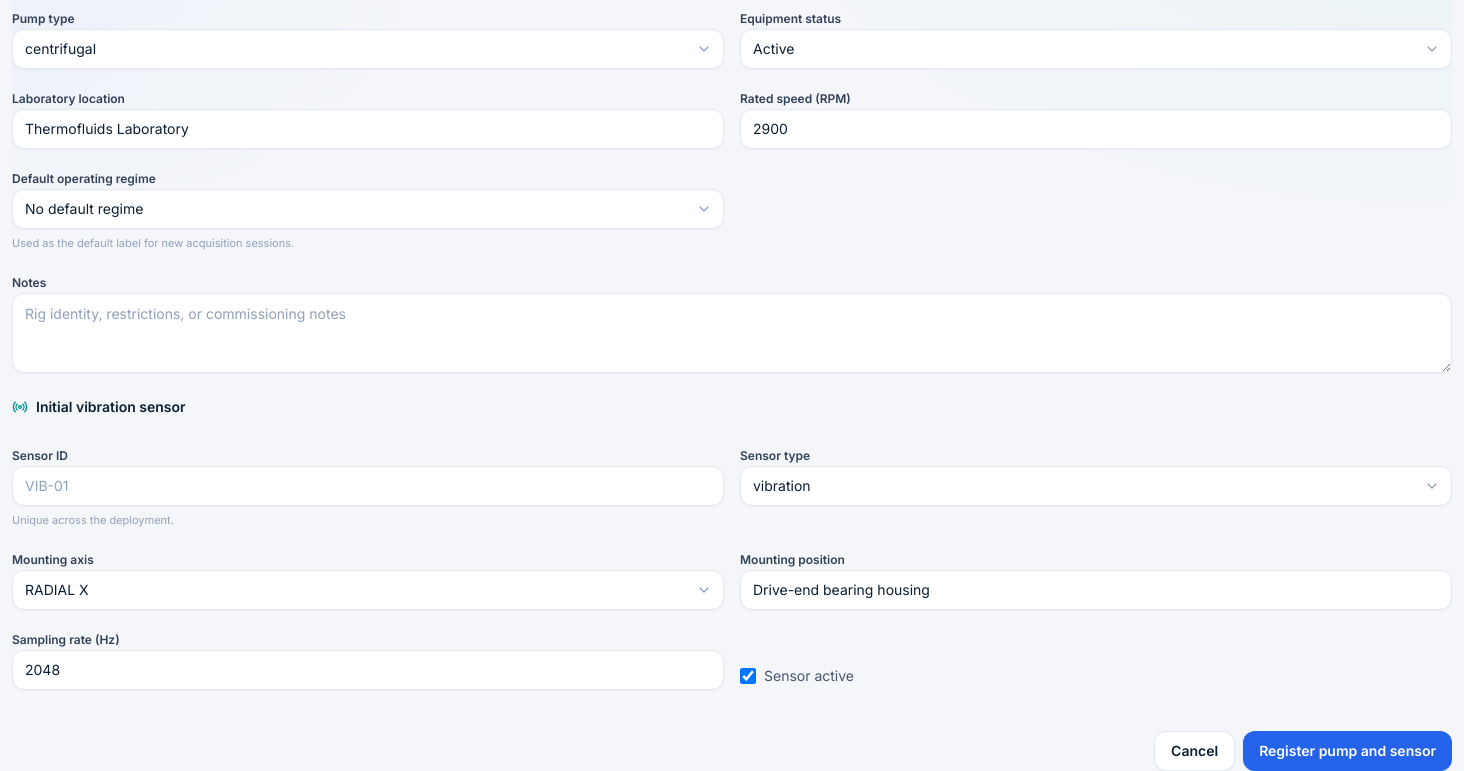
it: PumpRegistrationForm › validates required pump and sensor identity
The width and height of the screenshot is (1464, 771).
(page scrolled)
What coordinates should you click on to do the following:
click the button "Register pump and sensor"
I would click on:
 (1348, 751)
Its box is [1243,731,1452,770].
(page scrolled)
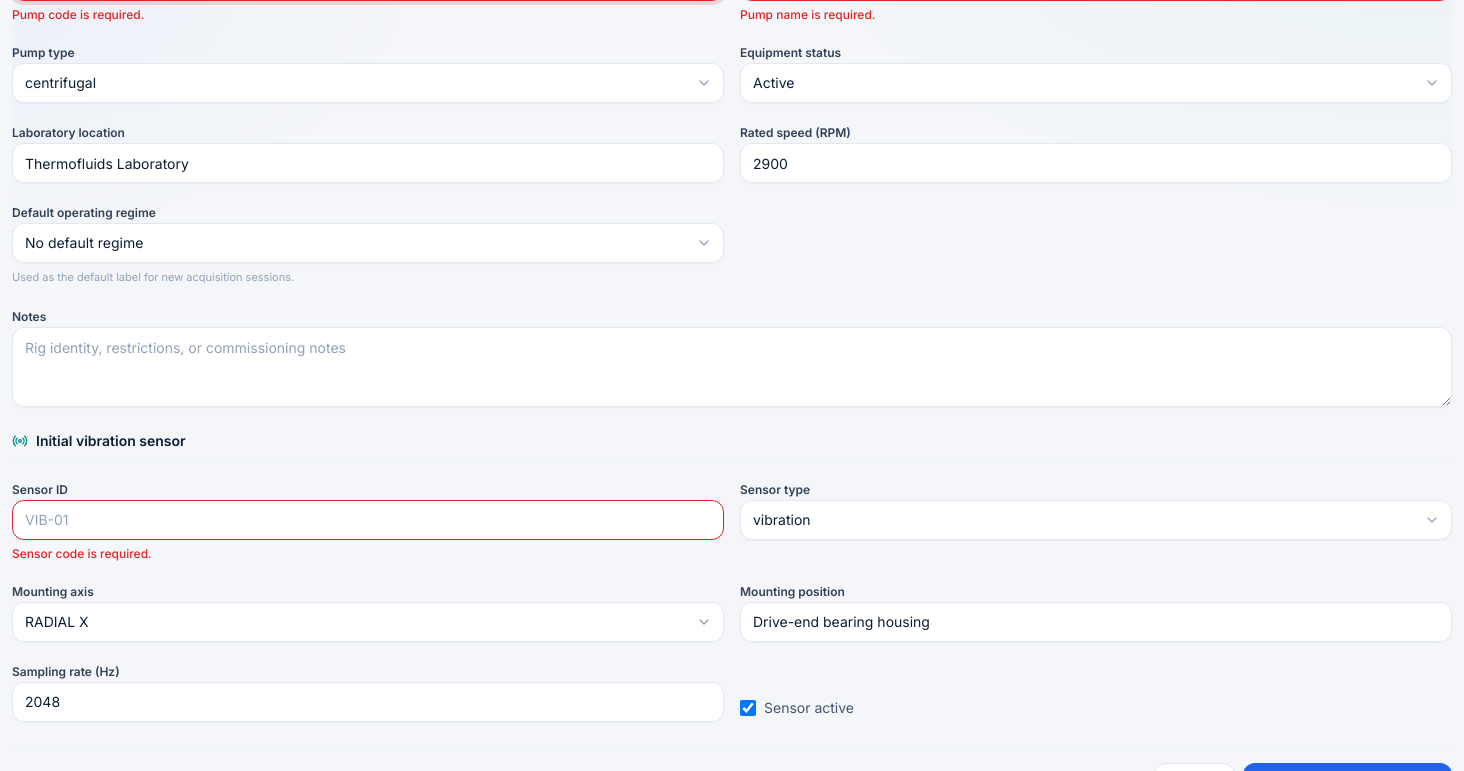
expect the text "Pump code is required." is shown: met, box [12,7,144,22]
expect the text "Pump name is required." is shown: met, box [740,7,876,22]
expect the text "Sensor code is required." is shown: met, box [12,546,152,561]
